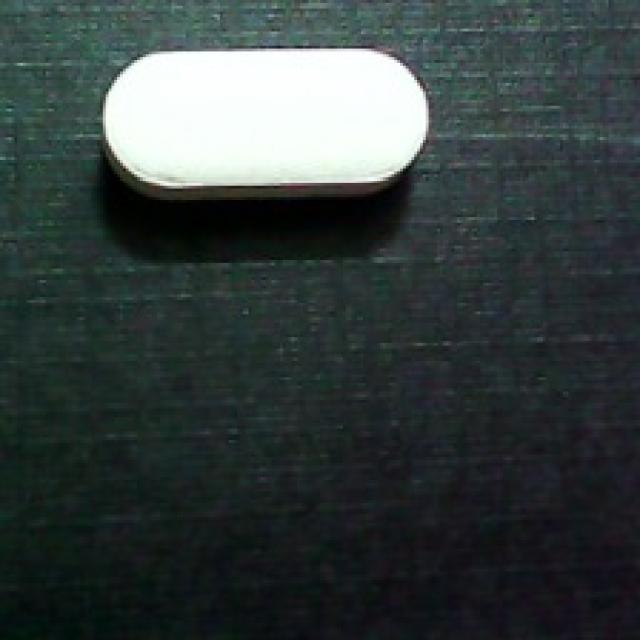no-defect: (97, 43, 429, 206)
